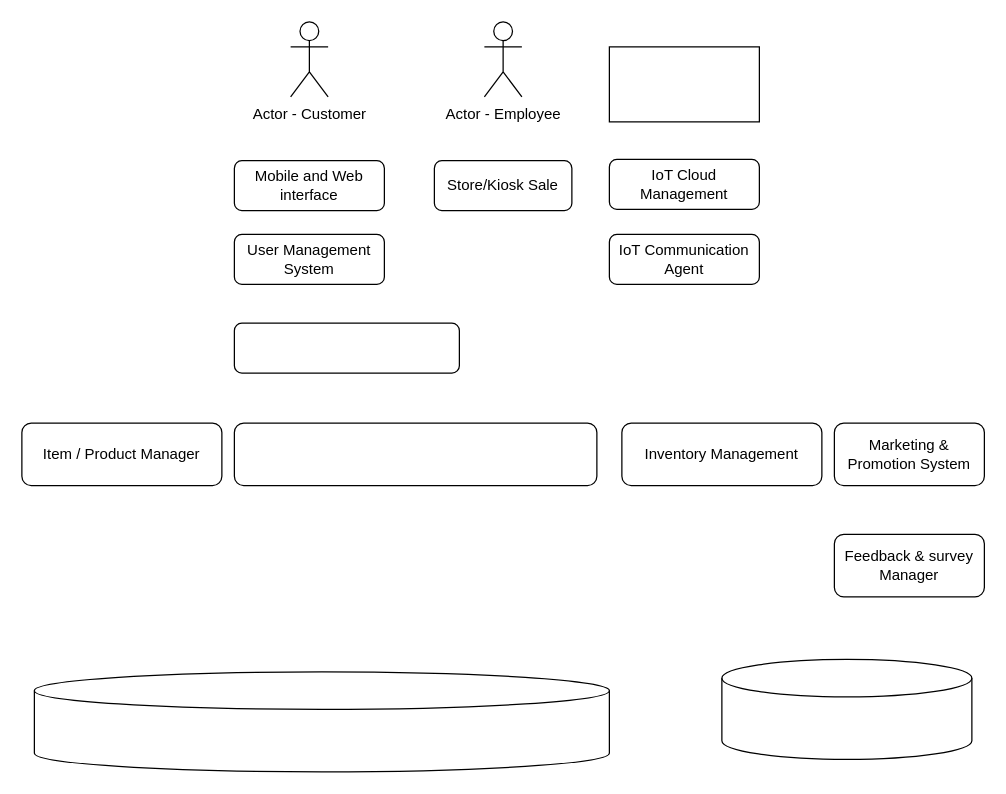
The diagram is 1006 pixels wide and 794 high, and some of its shapes have lost their labels. The centre of each missing label's shape, as x and y in pixels:
Food-order Management Engine: the point at 415,454
IoT Devices (Smart Fridge): the point at 683,84
Payment Engine: the point at 346,347
